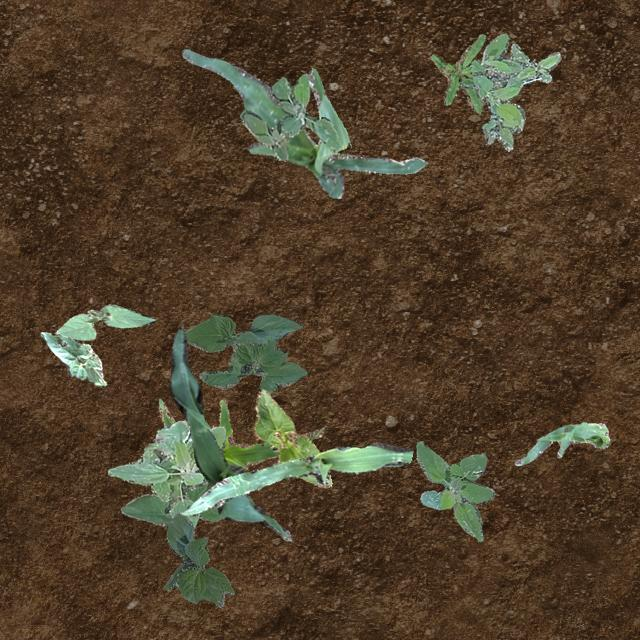crop: (182, 49, 426, 198), (169, 328, 291, 540), (180, 440, 412, 516), (106, 418, 225, 528), (158, 398, 324, 470), (182, 314, 306, 392), (254, 388, 332, 486), (162, 512, 234, 606), (120, 480, 222, 524), (514, 420, 610, 464), (56, 302, 154, 340), (40, 330, 106, 386)
weed: (458, 32, 560, 150), (238, 72, 339, 160), (414, 440, 494, 540), (428, 32, 484, 114)
